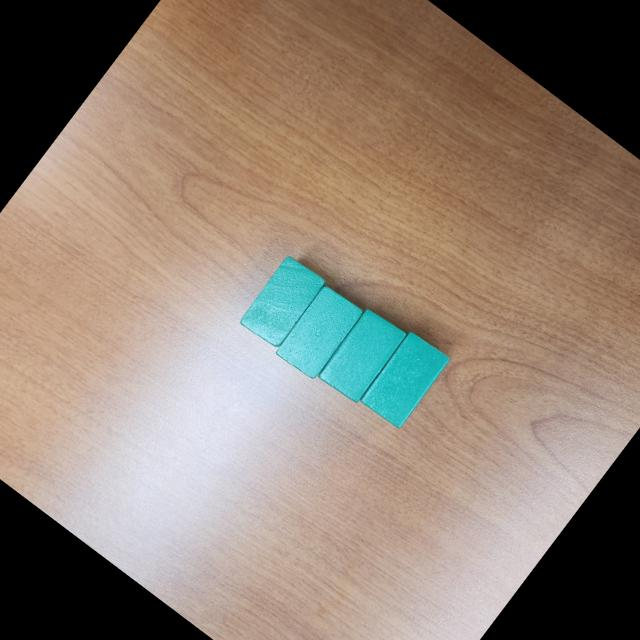green: (314, 304, 408, 408), (356, 330, 450, 432), (272, 282, 366, 382), (235, 251, 328, 352)
